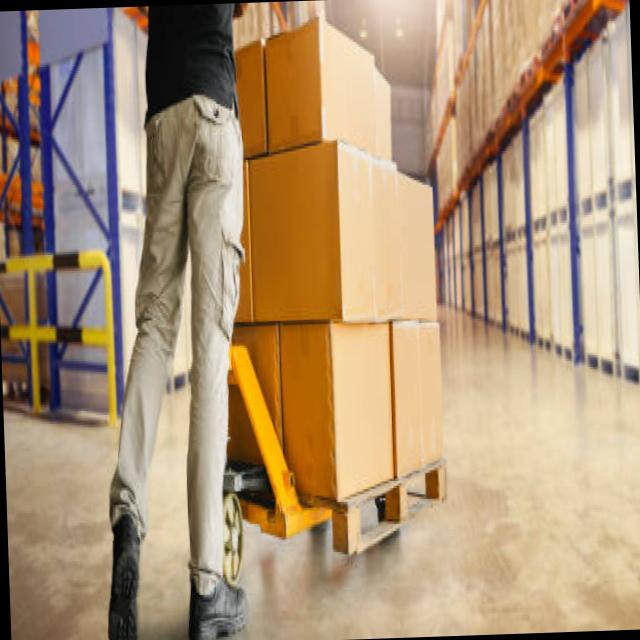Wooden-Pallets: (343, 453, 449, 558), (578, 334, 618, 382), (573, 180, 608, 224), (545, 199, 570, 245)
